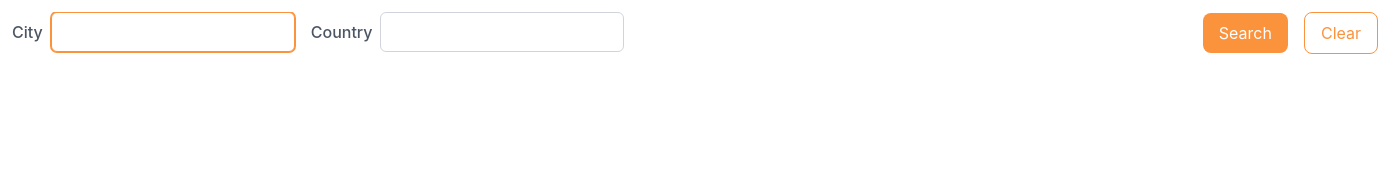
Test: GetWeatherForm works correctly › show error if the city and country input not being filled
Click the button "Search" at (1245, 33), box [1203,13,1288,53]
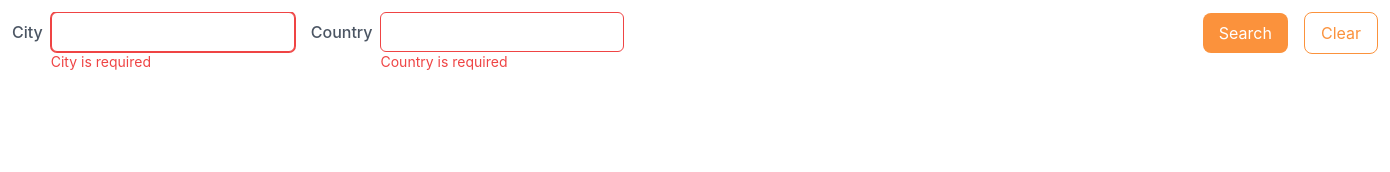
Result: the text "City is required" is shown at [51,52,151,72]
Result: the text "Country is required" is shown at [380,52,508,72]
